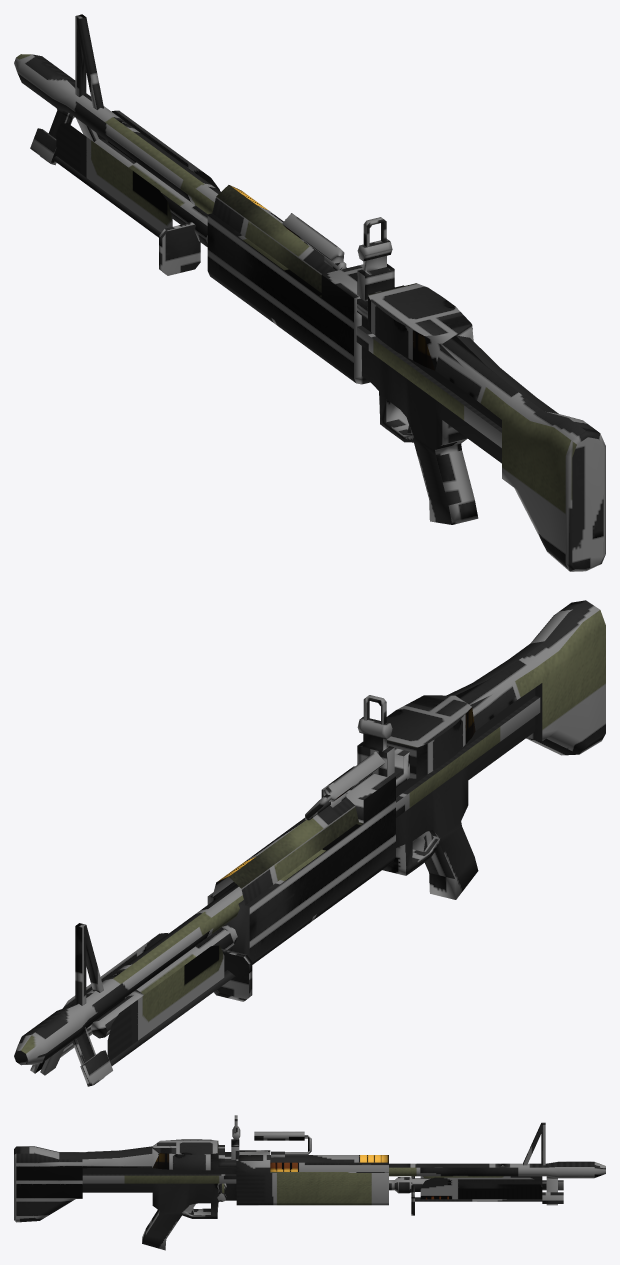
3 views of the same model, one above another, from view 1: azimuth 30°, elevation 25°; view 2: azimuth 150°, elevation 25°; view 3: azimuth 270°, elevation 25° (orthographic). The views are drawn at different scales.
Visible parts, largest first — view 1: M60; view 2: M60; view 3: M60.
Boxes of the visible parts, <box> form: M60: <box>14,14,605,571</box>; M60: <box>14,600,605,1086</box>; M60: <box>14,1115,605,1250</box>.
Bounding box in the file's own units: 0.0742 × 0.6816 × 0.165.
